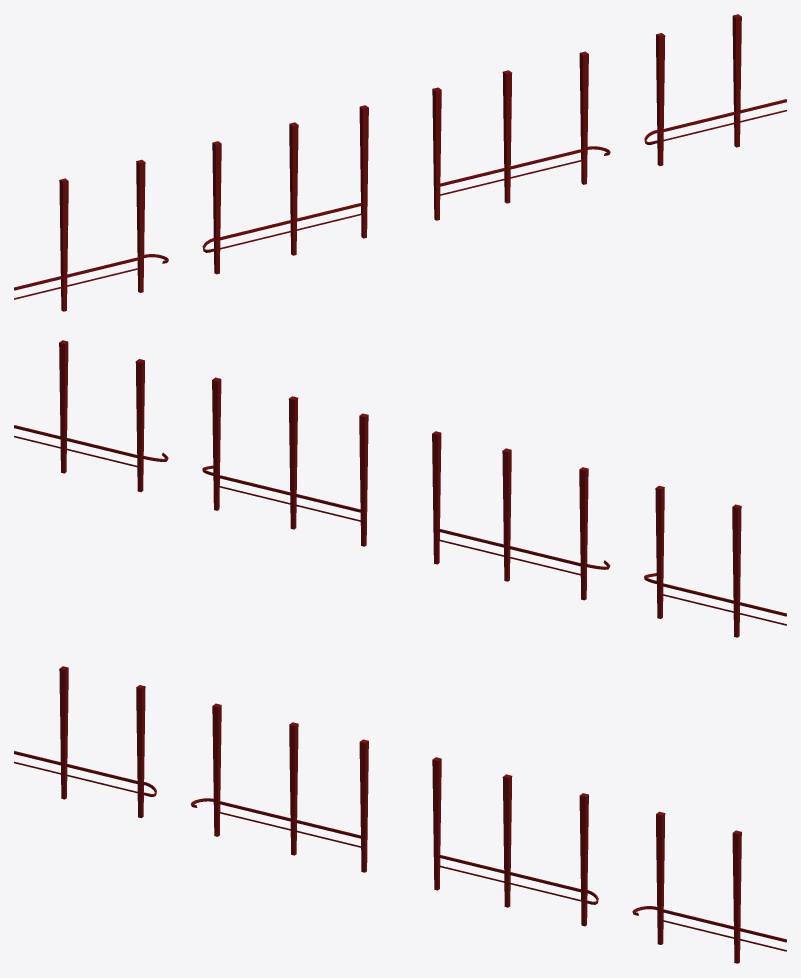
File: SM_Catwalk_Bars_W.fbx
3 renders of one model, top to bottom at view 1: azimuth 30°, elevation 25°; view 2: azimuth 150°, elevation 25°; view 3: azimuth 330°, elevation 25°, orthographic.
Visible parts, largest first — view 1: SM_Catwalk_Bars_W; view 2: SM_Catwalk_Bars_W; view 3: SM_Catwalk_Bars_W.
Boxes of the visible parts, x1,y1,x2,y2 form: SM_Catwalk_Bars_W: (14, 14, 786, 311); SM_Catwalk_Bars_W: (14, 340, 786, 637); SM_Catwalk_Bars_W: (14, 666, 786, 963).
Size of the model in its own units: 124 by 19.95 by 3.21.
